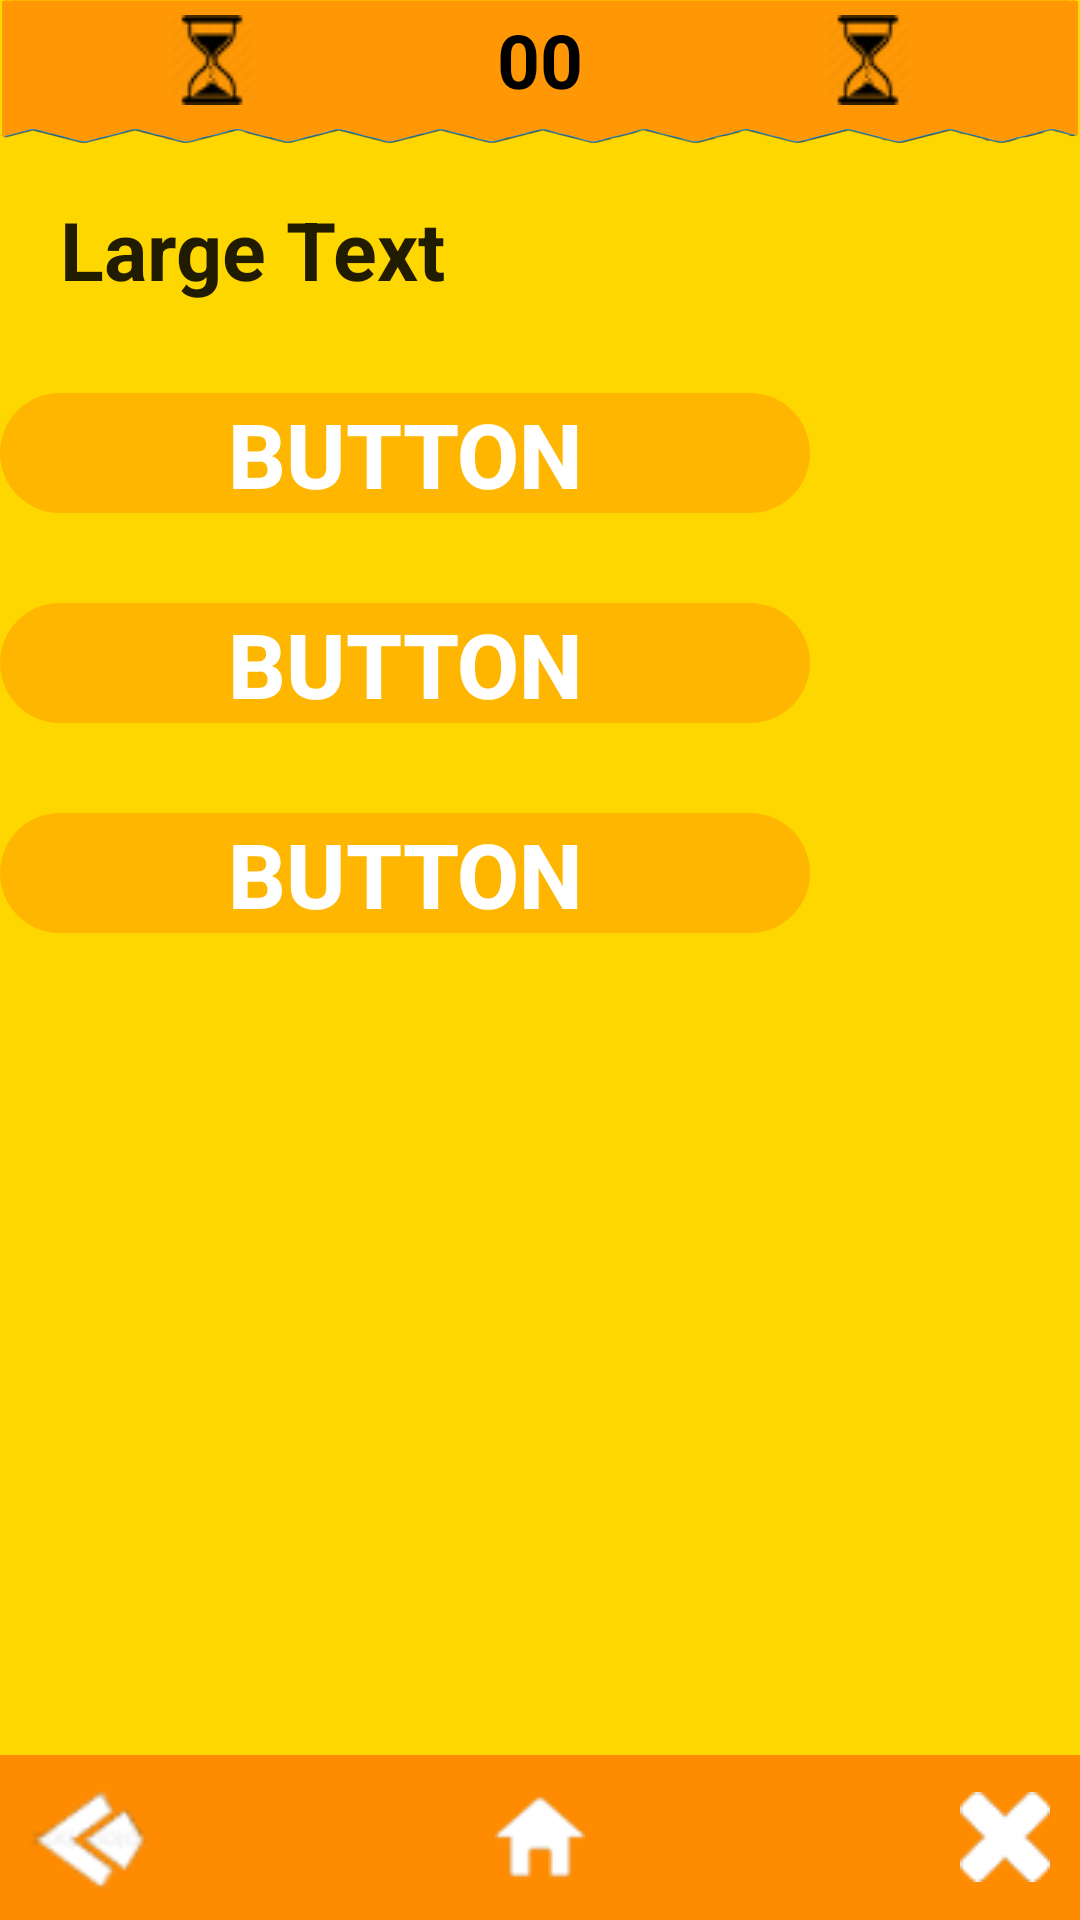

Named icons in this screenshot (1080w x 1920h) and their bounding boxes, (x1, y1, x2, y2):
close: (960, 1792, 1050, 1882)
homy: (495, 1797, 585, 1877)
timer: (181, 15, 243, 105), (837, 15, 899, 105)
